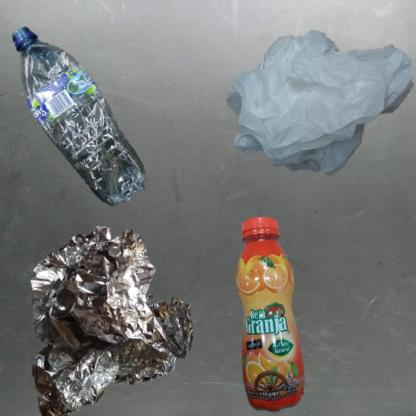aluminio: (10, 213, 211, 416)
bolsa: (213, 10, 416, 206)
botella: (10, 10, 162, 236), (213, 213, 340, 416)
